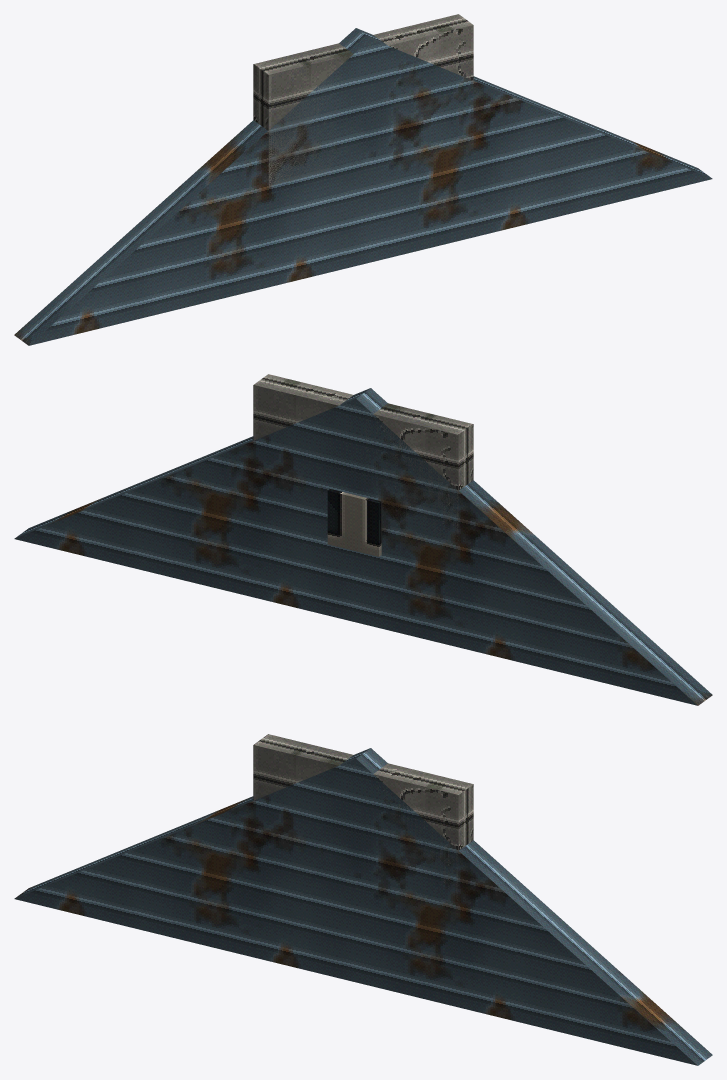
The model's file is gable_siding_blue_8.glb.
3 views of the same model, one above another, from view 1: azimuth 30°, elevation 25°; view 2: azimuth 150°, elevation 25°; view 3: azimuth 330°, elevation 25° (orthographic).
Parts seen in each view (by area): view 1: gable_siding_blue_8_mesh, gable_siding_blue_8_col-colonly.001; view 2: gable_siding_blue_8_mesh, gable_siding_blue_8_col-colonly.001; view 3: gable_siding_blue_8_mesh, gable_siding_blue_8_col-colonly.001.
Part boxes in pixels (<box>): gable_siding_blue_8_mesh: <box>14,28,712,345</box>; gable_siding_blue_8_col-colonly.001: <box>253,14,473,186</box>; gable_siding_blue_8_mesh: <box>14,388,712,705</box>; gable_siding_blue_8_col-colonly.001: <box>253,374,473,544</box>; gable_siding_blue_8_mesh: <box>14,748,712,1065</box>; gable_siding_blue_8_col-colonly.001: <box>253,734,473,900</box>.
Size of what is drawn, in the model's own units: 8 by 2.5 by 0.355.
Materials: 3 (3 with a texture image).
